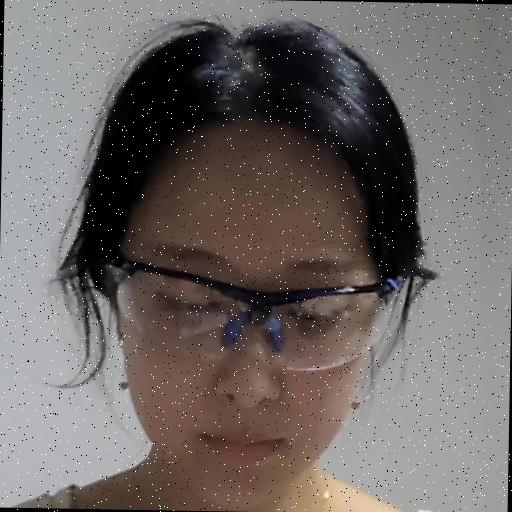glasses: (70, 21, 443, 512)
